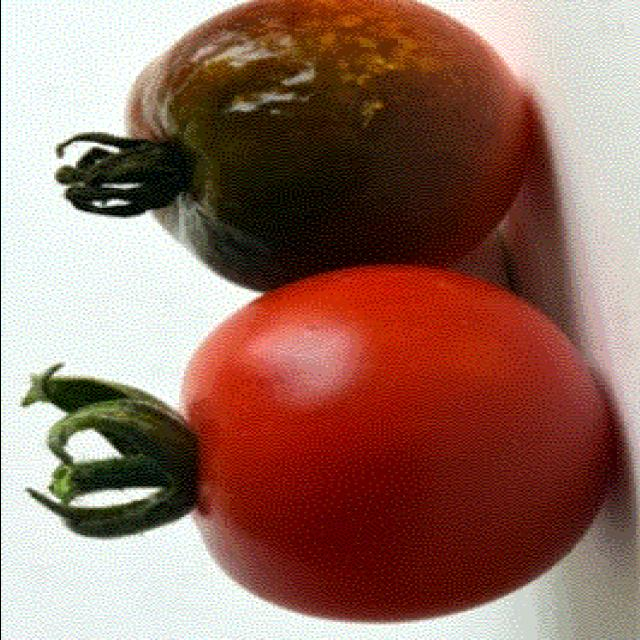Healthy: (157, 294, 606, 606)
